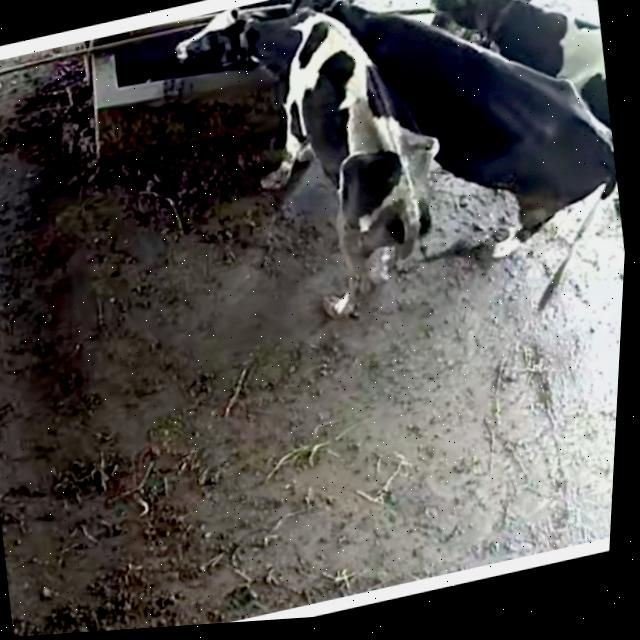drink: (165, 0, 344, 117), (282, 0, 403, 66)
